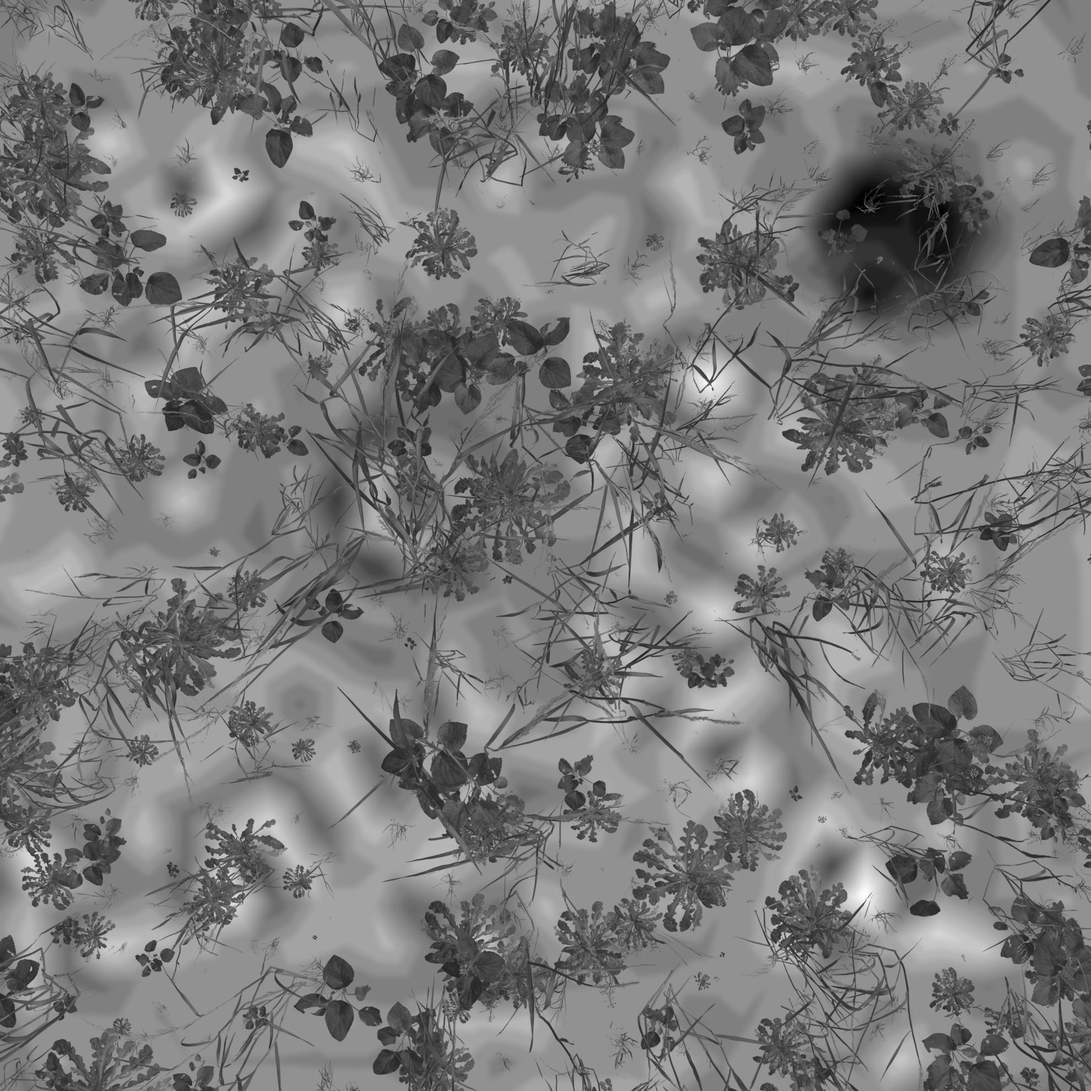landmine: (319, 402, 502, 602), (811, 157, 984, 320)
